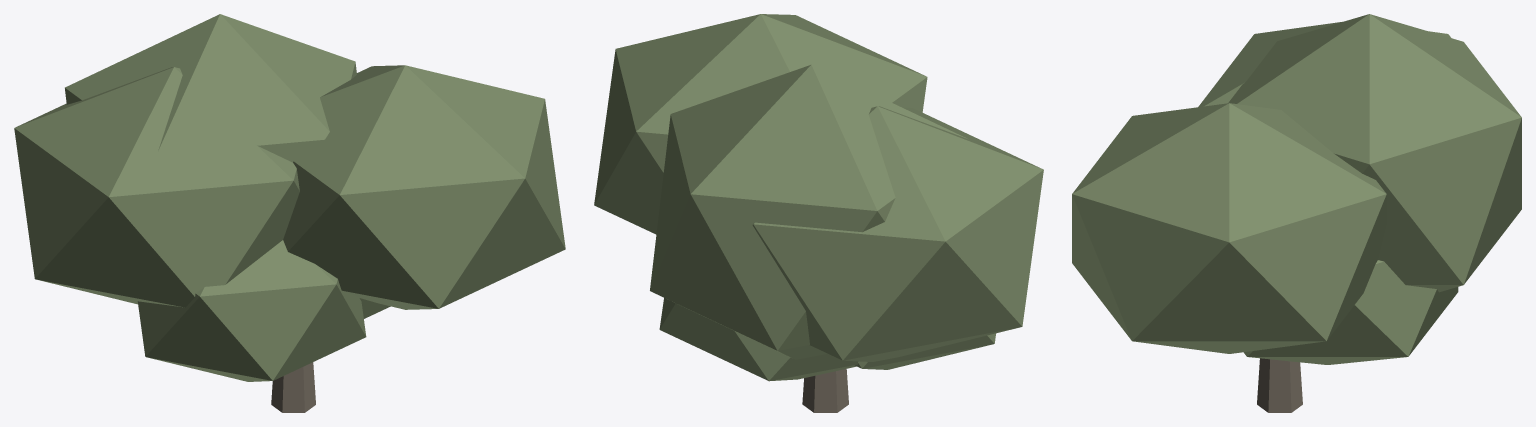
File: bush_a_LOD0.fbx
The picture shows the model from 3 angles, left to right: view 1: azimuth 30°, elevation 25°; view 2: azimuth 150°, elevation 25°; view 3: azimuth 270°, elevation 25°; orthographic projection. The views are drawn at different scales.
Parts seen in each view (by area): view 1: bush_a; view 2: bush_a; view 3: bush_a.
Part boxes in pixels (x1=…): bush_a: x1=14, y1=14, x2=565, y2=412; bush_a: x1=594, y1=14, x2=1043, y2=412; bush_a: x1=1072, y1=14, x2=1521, y2=412.
Size of the model in its own units: 168 by 130 by 141.
